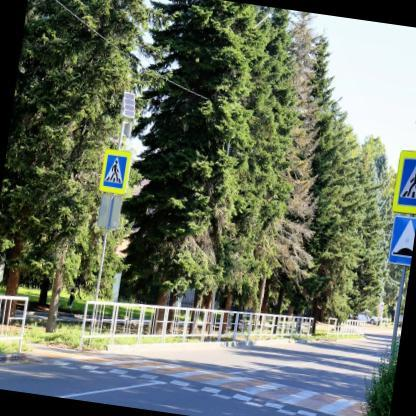obstructed_road_sign: (387, 215, 416, 267), (393, 149, 416, 213)
road_sign: (100, 149, 130, 194)
